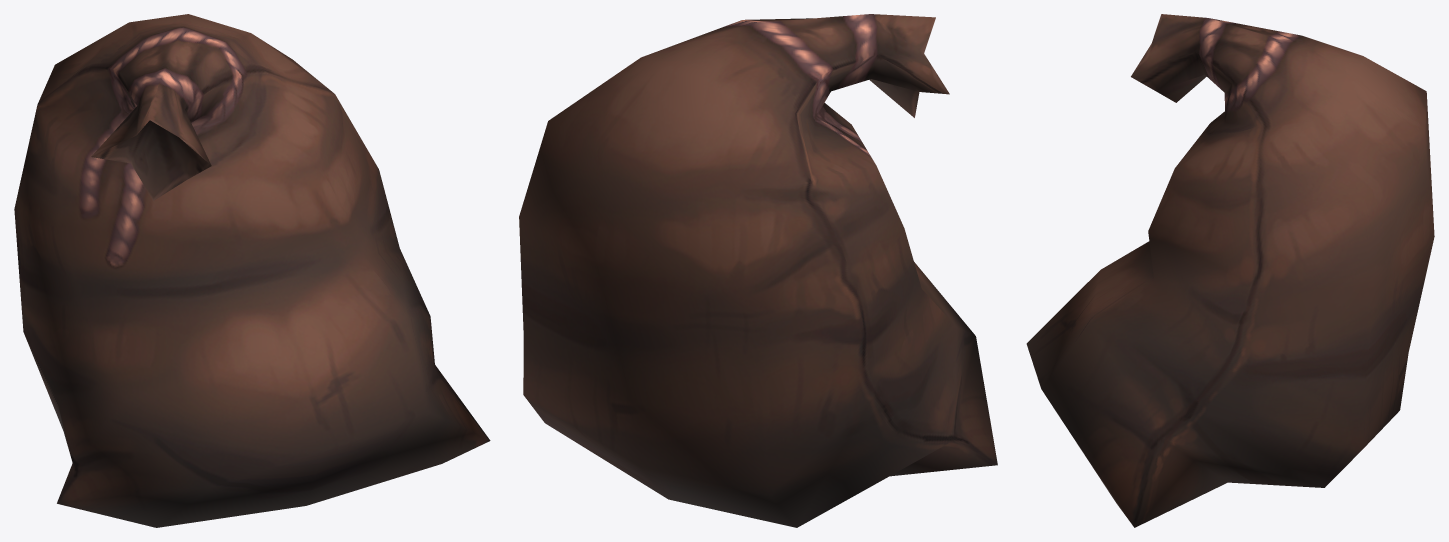
File: sack_of_gold_large1.fbx
The picture shows the model from 3 angles, left to right: view 1: azimuth 30°, elevation 25°; view 2: azimuth 150°, elevation 25°; view 3: azimuth 270°, elevation 25°; orthographic projection. The views are drawn at different scales.
Visible parts, largest first — view 1: sack_of_gold_large1; view 2: sack_of_gold_large1; view 3: sack_of_gold_large1.
Boxes of the visible parts, x1,y1,x2,y2 form: sack_of_gold_large1: (14, 14, 490, 527); sack_of_gold_large1: (519, 14, 997, 527); sack_of_gold_large1: (1026, 14, 1434, 527).
Size of the model in its own units: 94.01 by 94.01 by 88.45.
